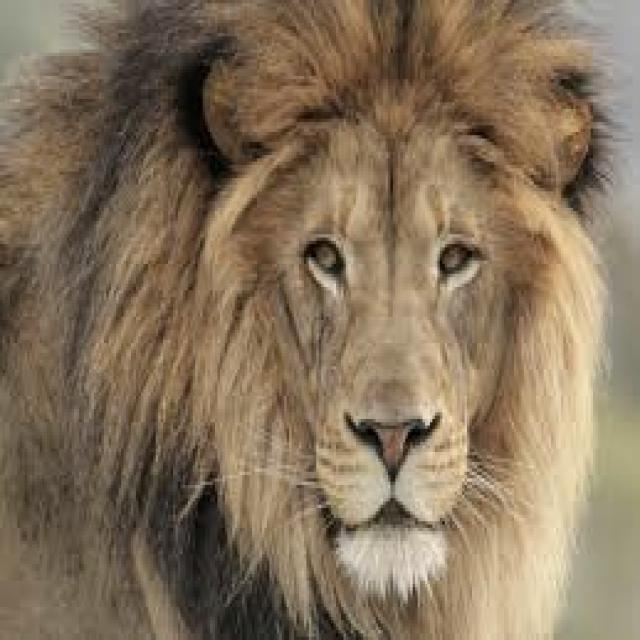lion: (0, 0, 603, 637)
